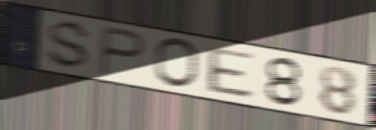8: (317, 66, 358, 117), (264, 56, 303, 107)
E: (206, 45, 256, 101)
O: (152, 37, 201, 91)
P: (96, 23, 149, 79)
S: (43, 19, 95, 71)
